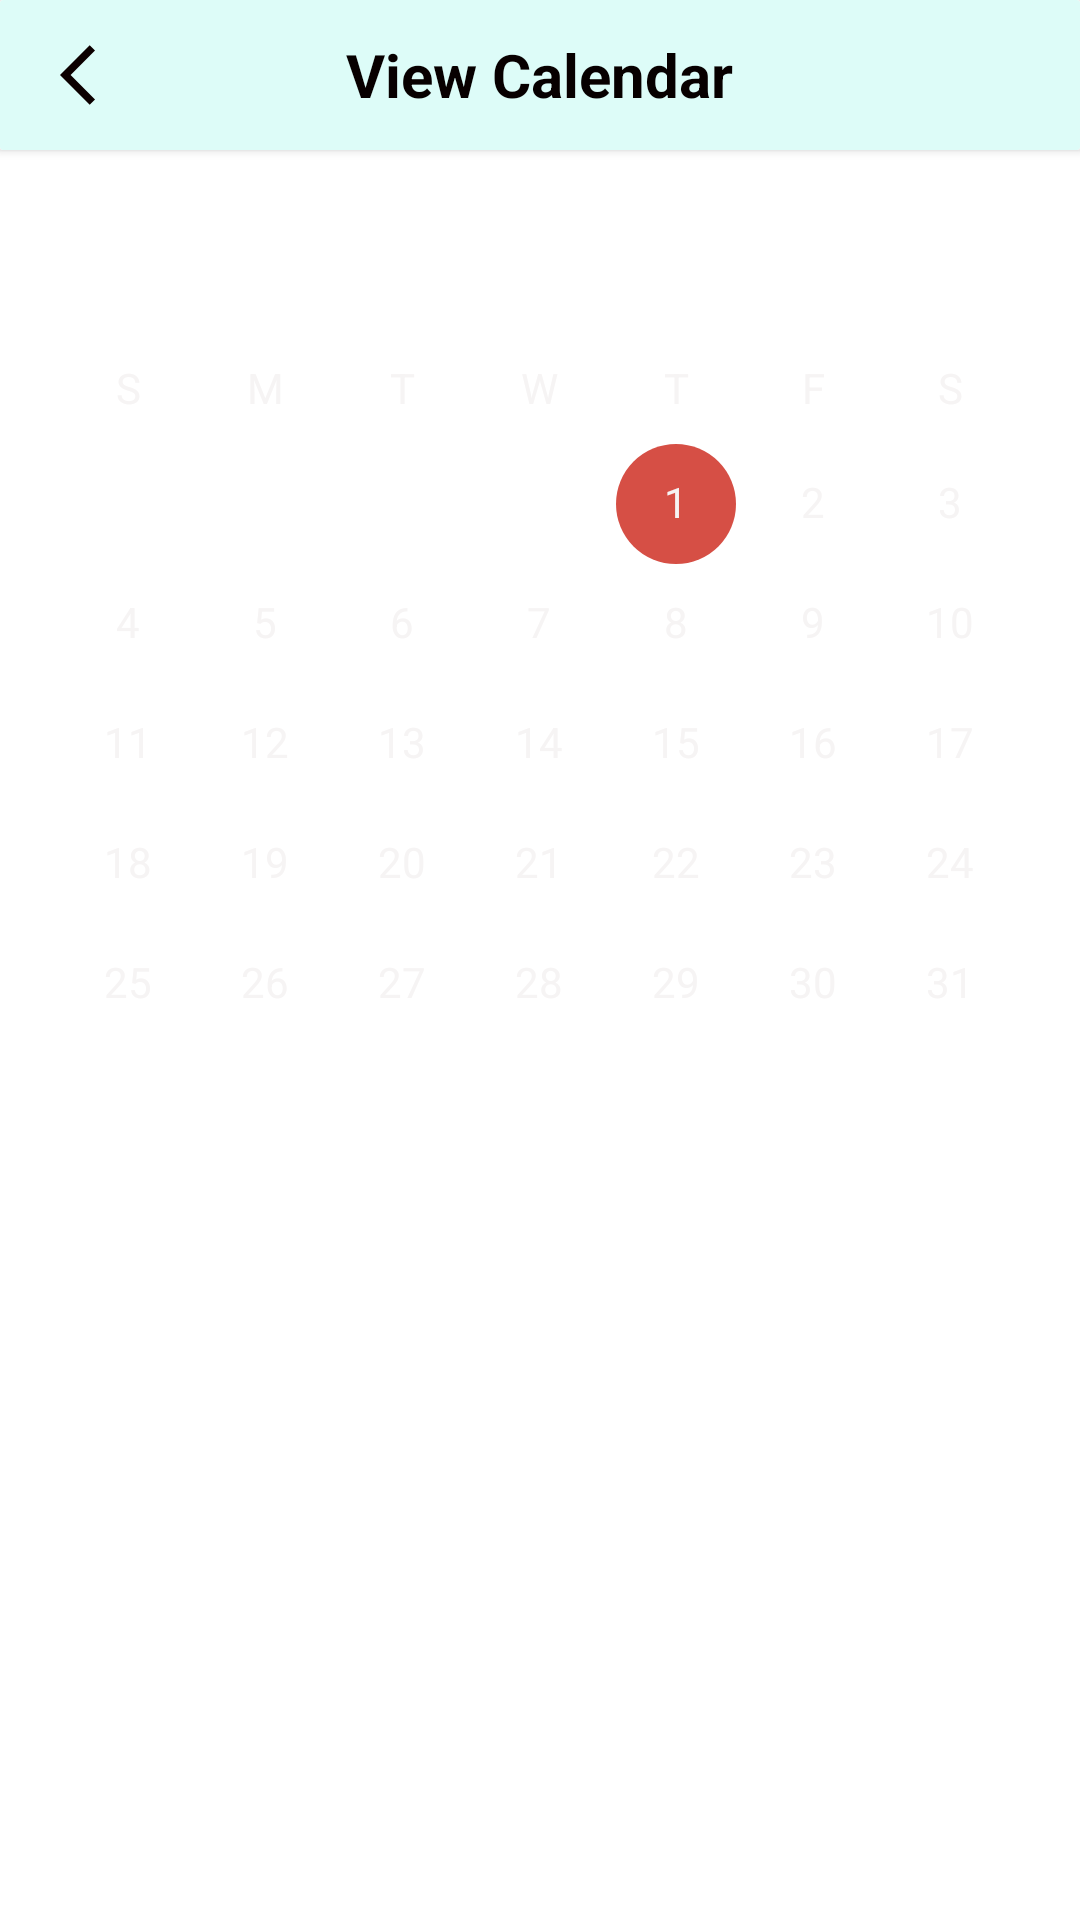

Named icons in this screenshot (1080w x 1920h) and their bounding boxes, region(x1, y1, x2, y2):
back: region(60, 45, 95, 105)
